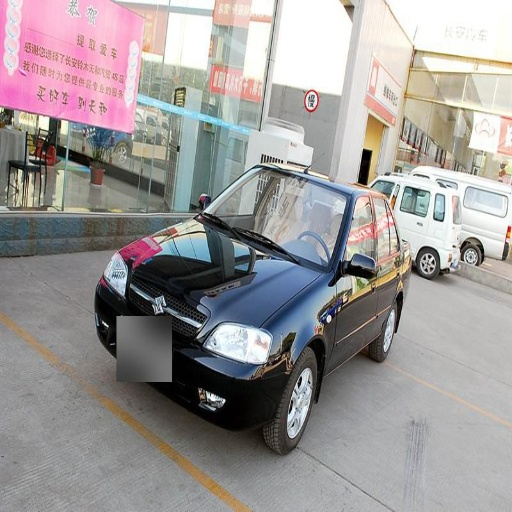front_bumper: (182, 345, 288, 427)
front_glass: (255, 177, 338, 228), (238, 230, 323, 268)
front_left_door: (336, 206, 376, 355)
